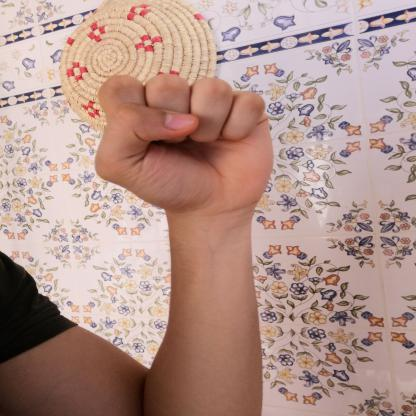SAD: (73, 62, 304, 224)
